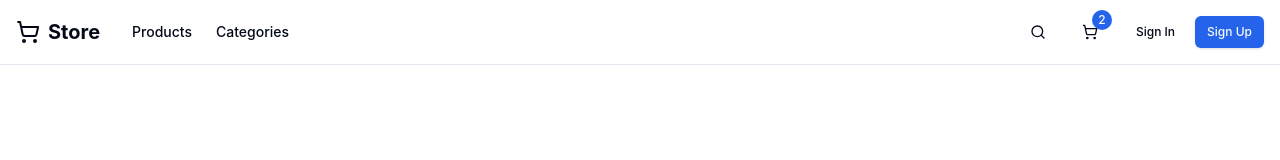
Navigation - Search Autocomplete › should show search input when search button is clicked
The width and height of the screenshot is (1280, 160).
Click the button named "Search products" at (1038, 32), box [1020,14,1056,50]
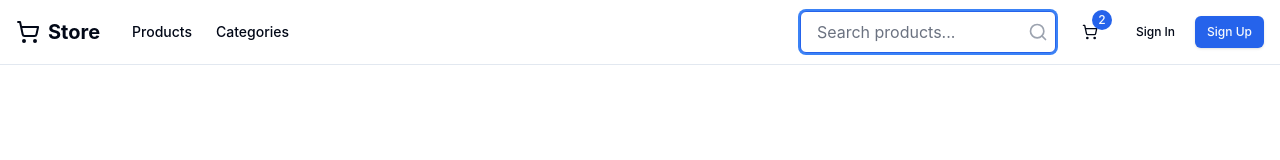
Expected: the field with test id "search-input" is shown, [800,11,1056,53]
